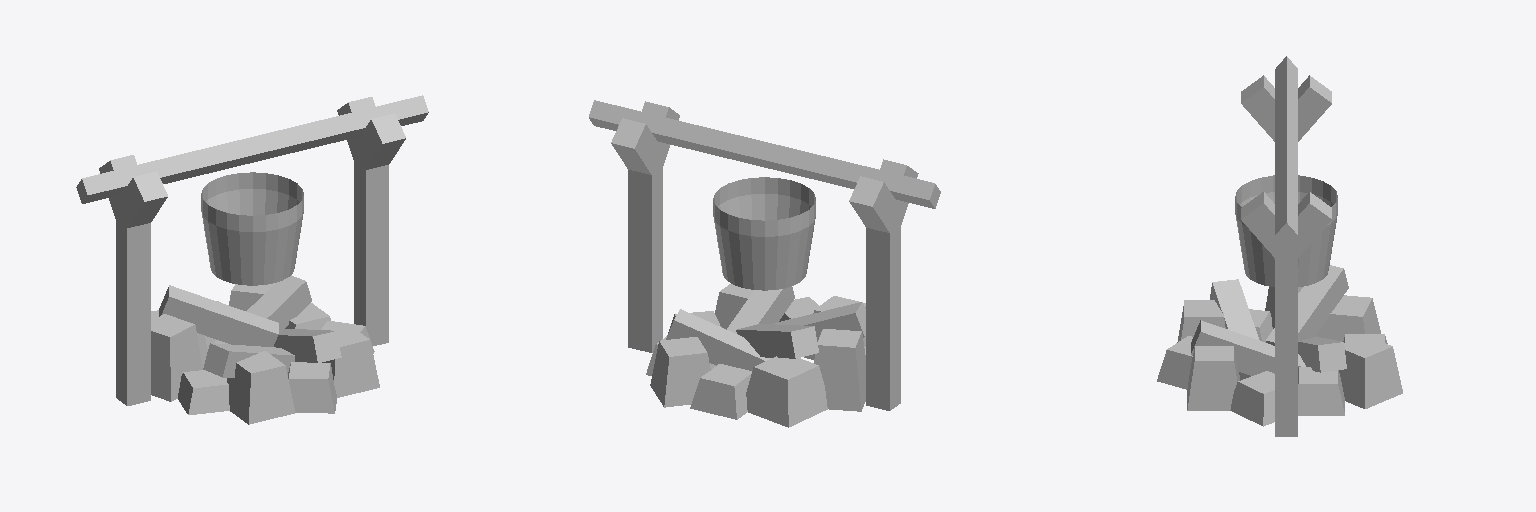
The model's file is campfire.obj.
3 views of the same model, side by side, from view 1: azimuth 30°, elevation 25°; view 2: azimuth 150°, elevation 25°; view 3: azimuth 270°, elevation 25° (orthographic).
Parts seen in each view (by area): view 1: campfire, rocks, bucket, wood; view 2: campfire, rocks, bucket, wood; view 3: rocks, campfire, wood, bucket.
Boxes of the visible parts, x1=… form: campfire: x1=76, y1=95, x2=428, y2=405; rocks: x1=151, y1=283, x2=379, y2=424; bucket: x1=201, y1=172, x2=303, y2=285; wood: x1=159, y1=275, x2=341, y2=377; campfire: x1=589, y1=100, x2=940, y2=410; rocks: x1=646, y1=284, x2=865, y2=427; bucket: x1=713, y1=177, x2=815, y2=290; wood: x1=666, y1=286, x2=865, y2=370; rocks: x1=1157, y1=287, x2=1402, y2=426; campfire: x1=1241, y1=56, x2=1331, y2=436; wood: x1=1191, y1=265, x2=1348, y2=380; bucket: x1=1235, y1=175, x2=1337, y2=286.
Size of the model in its own units: 0.43 by 0.2812 by 0.2692.